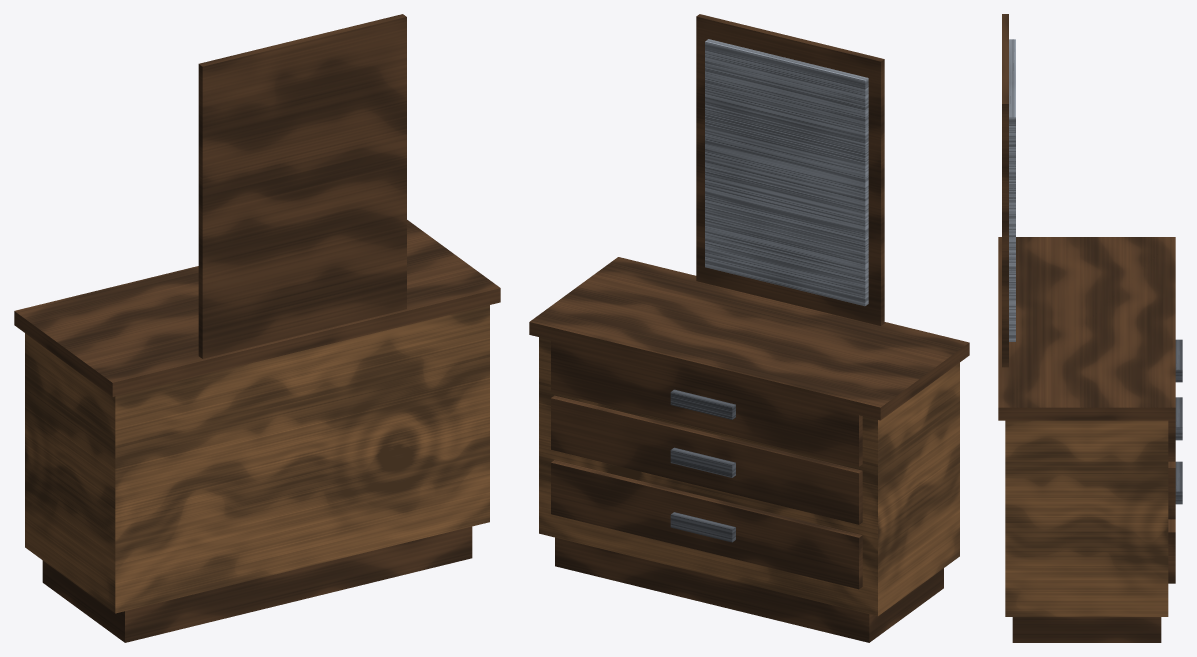
Rendered from dresser.fbx.
3 renders of one model, left to right at view 1: azimuth 30°, elevation 25°; view 2: azimuth 150°, elevation 25°; view 3: azimuth 270°, elevation 25°, orthographic. The views are drawn at different scales.
Parts seen in each view (by area): view 1: dresser; view 2: dresser; view 3: dresser.
Boxes of the visible parts, left/top/right/bottom form: dresser: left=14, top=14, right=500, bottom=642; dresser: left=529, top=14, right=969, bottom=642; dresser: left=998, top=14, right=1182, bottom=642.
Bounding box in the file's own units: 114 × 158 × 52.
